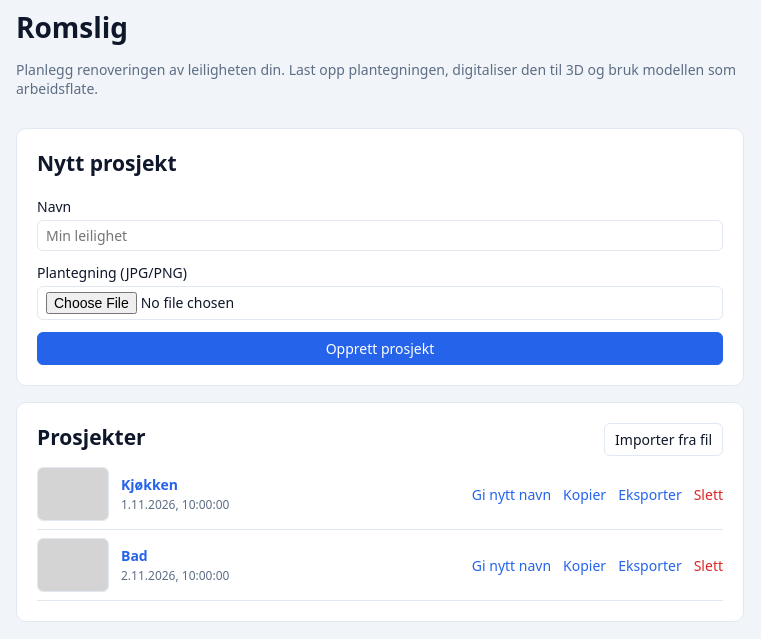
Test case: ProjectList › renames a project
The width and height of the screenshot is (761, 639).
Expected: the link "Kjøkken" is shown, top-left (121, 475), bottom-right (178, 494)
Click the button "Gi nytt navn" in the row of "Kjøkken" at (511, 494), box top-left (472, 484), bottom-right (551, 504)
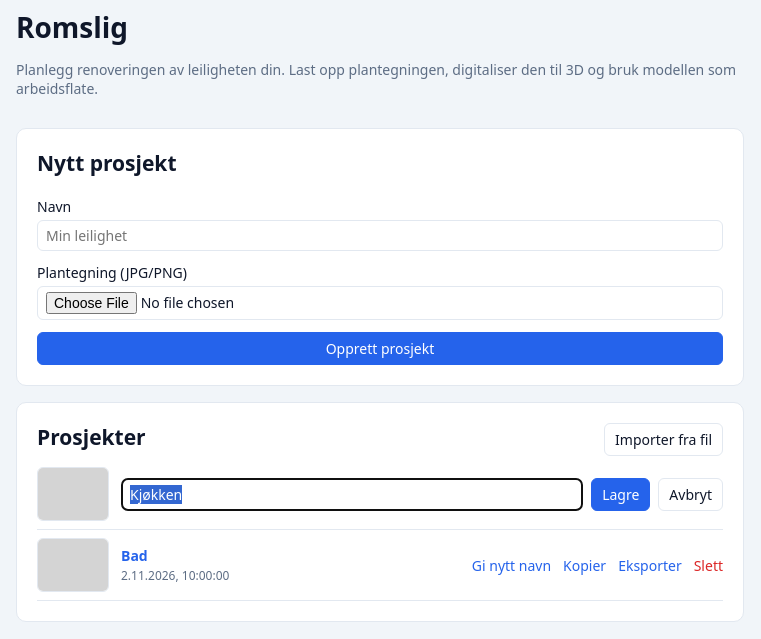
Replace the text in the field named "Nytt navn" with " Nytt kjøkken " at (352, 494), box top-left (121, 478), bottom-right (583, 510)
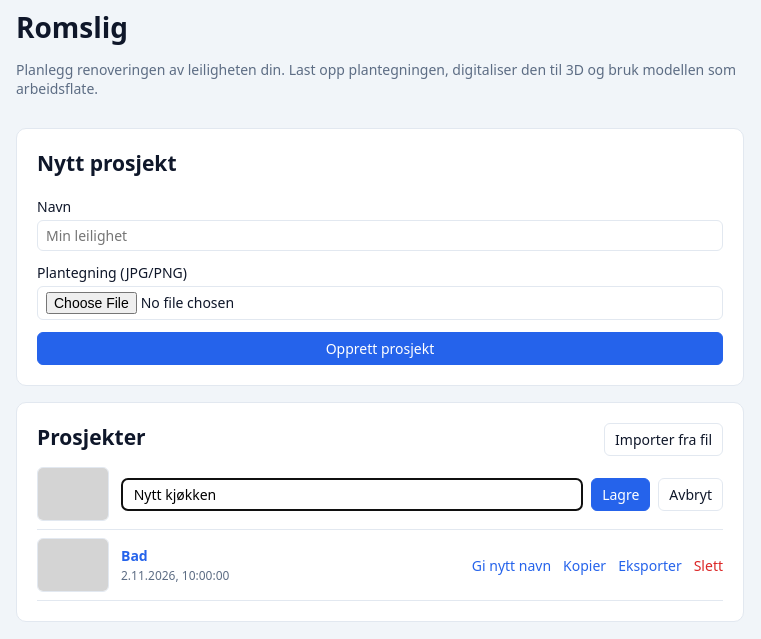
Click the button "Lagre" at (621, 494), box top-left (591, 478), bottom-right (650, 510)
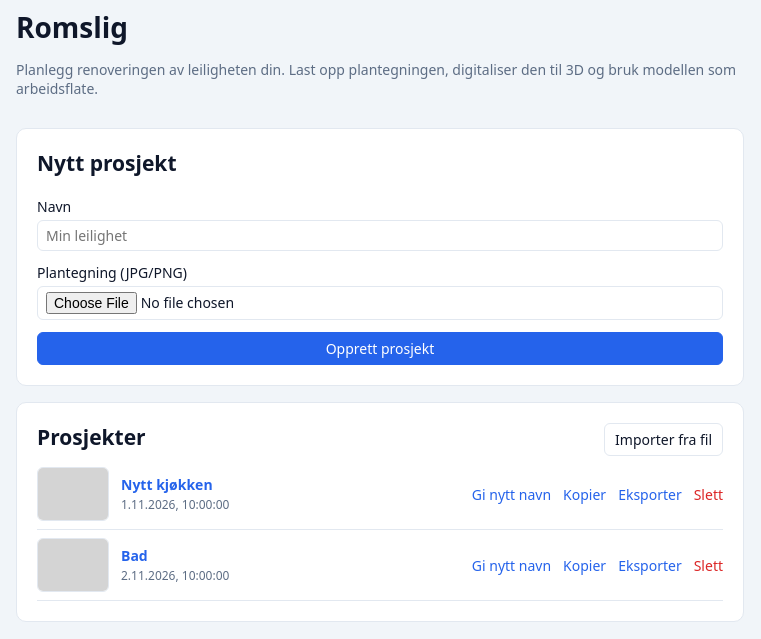
Expected: the link "Nytt kjøkken" is shown, top-left (121, 475), bottom-right (213, 494)
